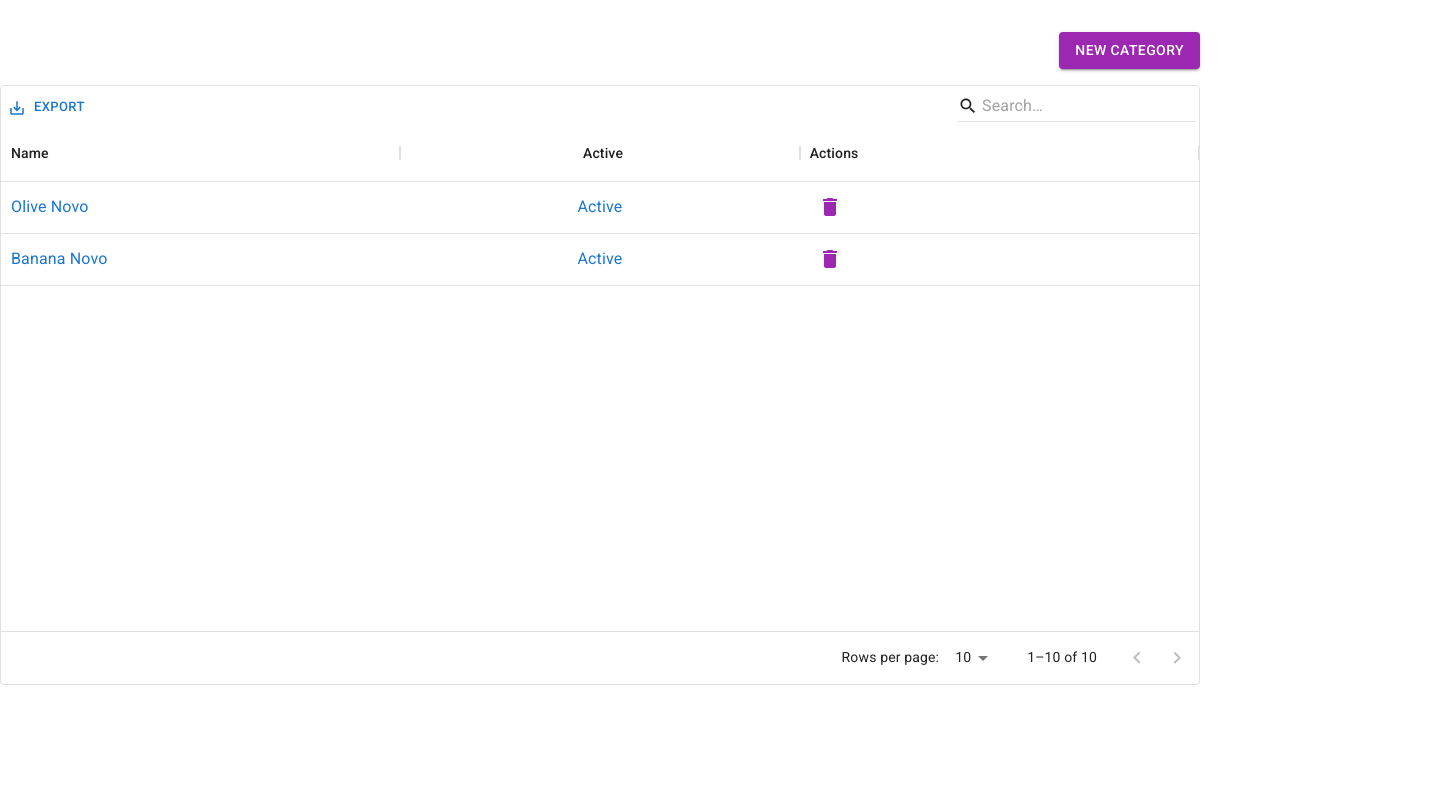
Scenario: ListCategory › should error when delete
Click the button with test id "delete-button" in the row of "Olive Novo".
click(830, 207)  # box [810, 187, 850, 227]
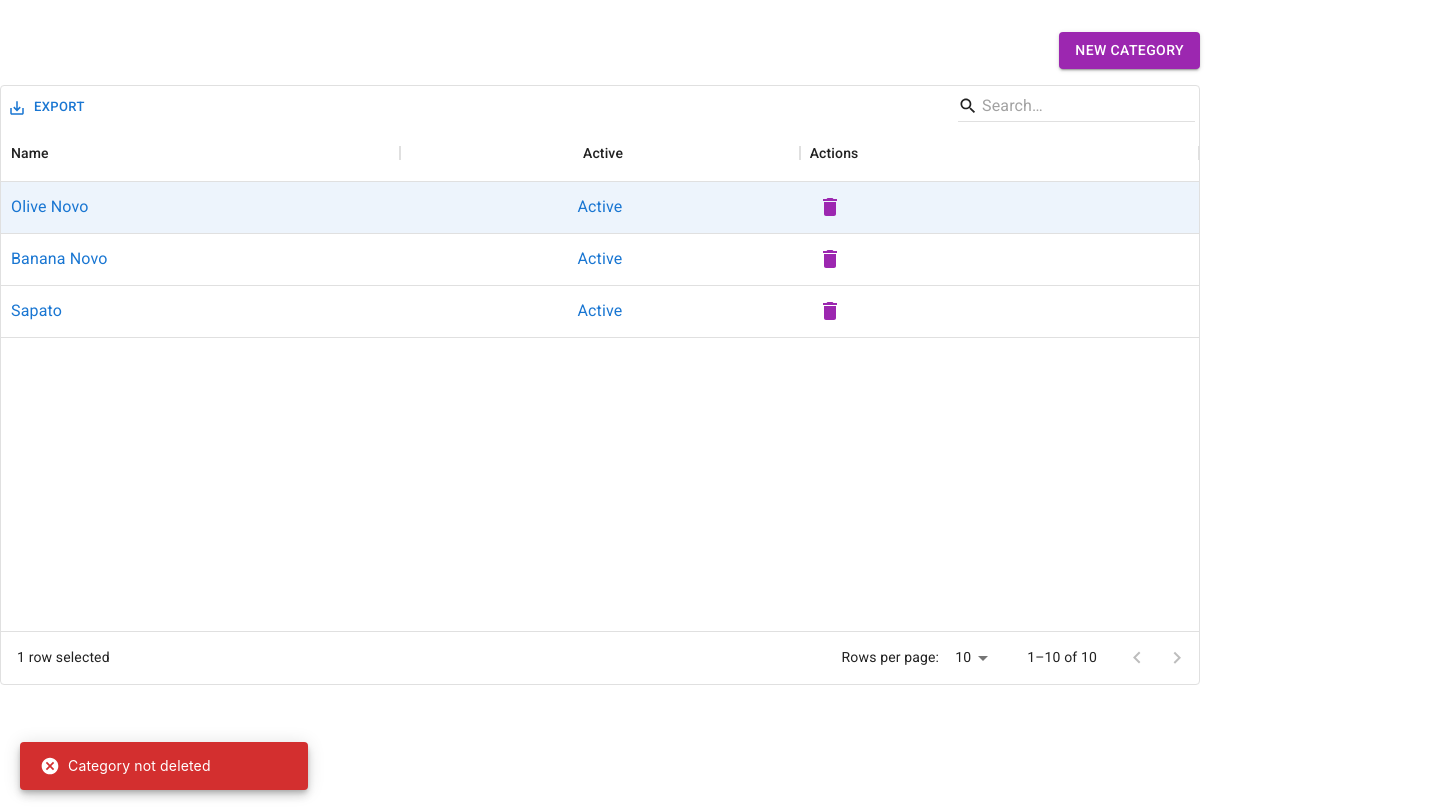
Check: the text "Category not deleted" is shown, box [40, 756, 211, 776]
